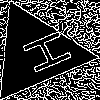H: (11, 27, 74, 80)
